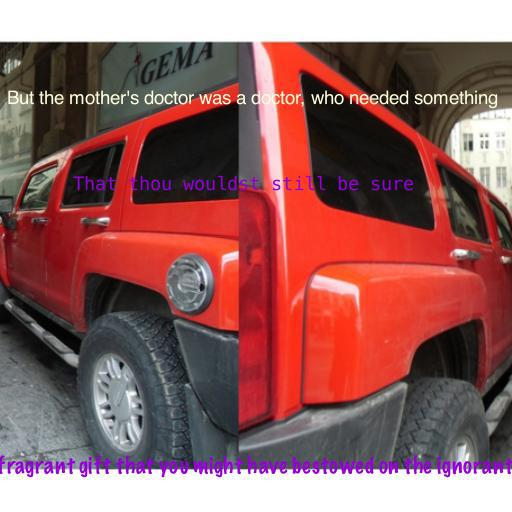Marker Felt: (0, 455, 512, 478)
Menlo: (72, 175, 414, 191)
SF Pro: (6, 90, 498, 109)
